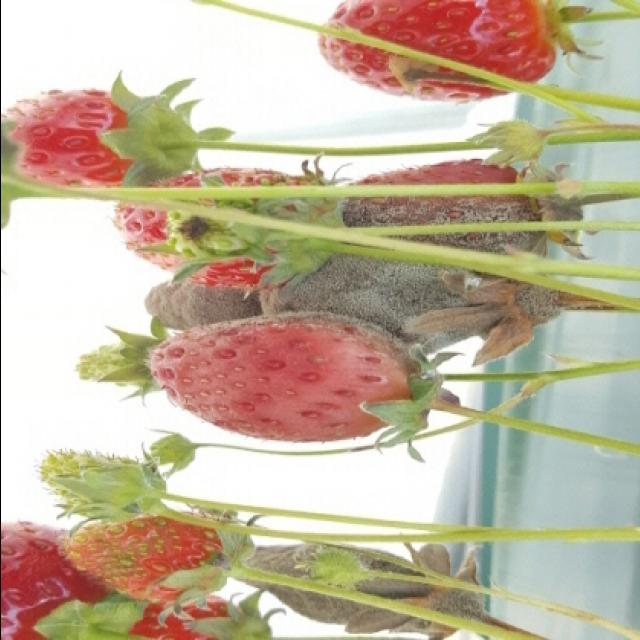Gray Mold: (149, 311, 460, 442), (269, 252, 610, 365), (229, 537, 506, 640), (344, 155, 591, 261), (142, 264, 284, 330)
